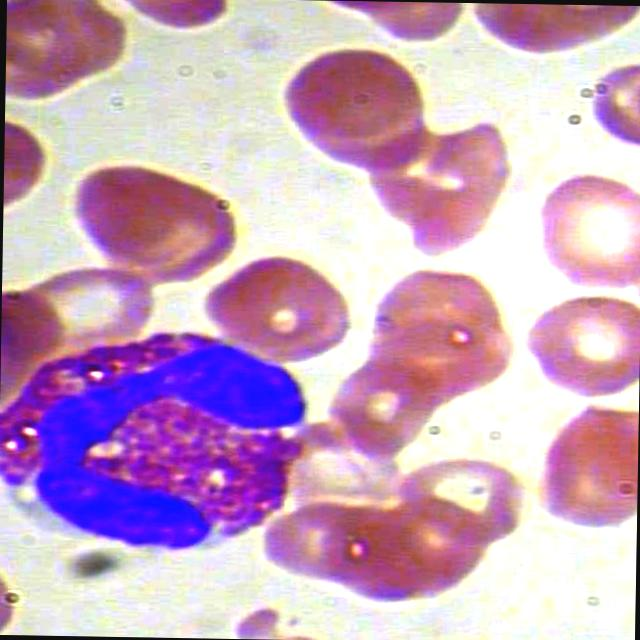RBC: (198, 252, 348, 369), (508, 401, 638, 532), (65, 148, 206, 268), (512, 169, 640, 293), (270, 40, 420, 144), (510, 287, 640, 407), (4, 0, 130, 93), (400, 458, 518, 546)
WBC: (0, 320, 320, 563)
